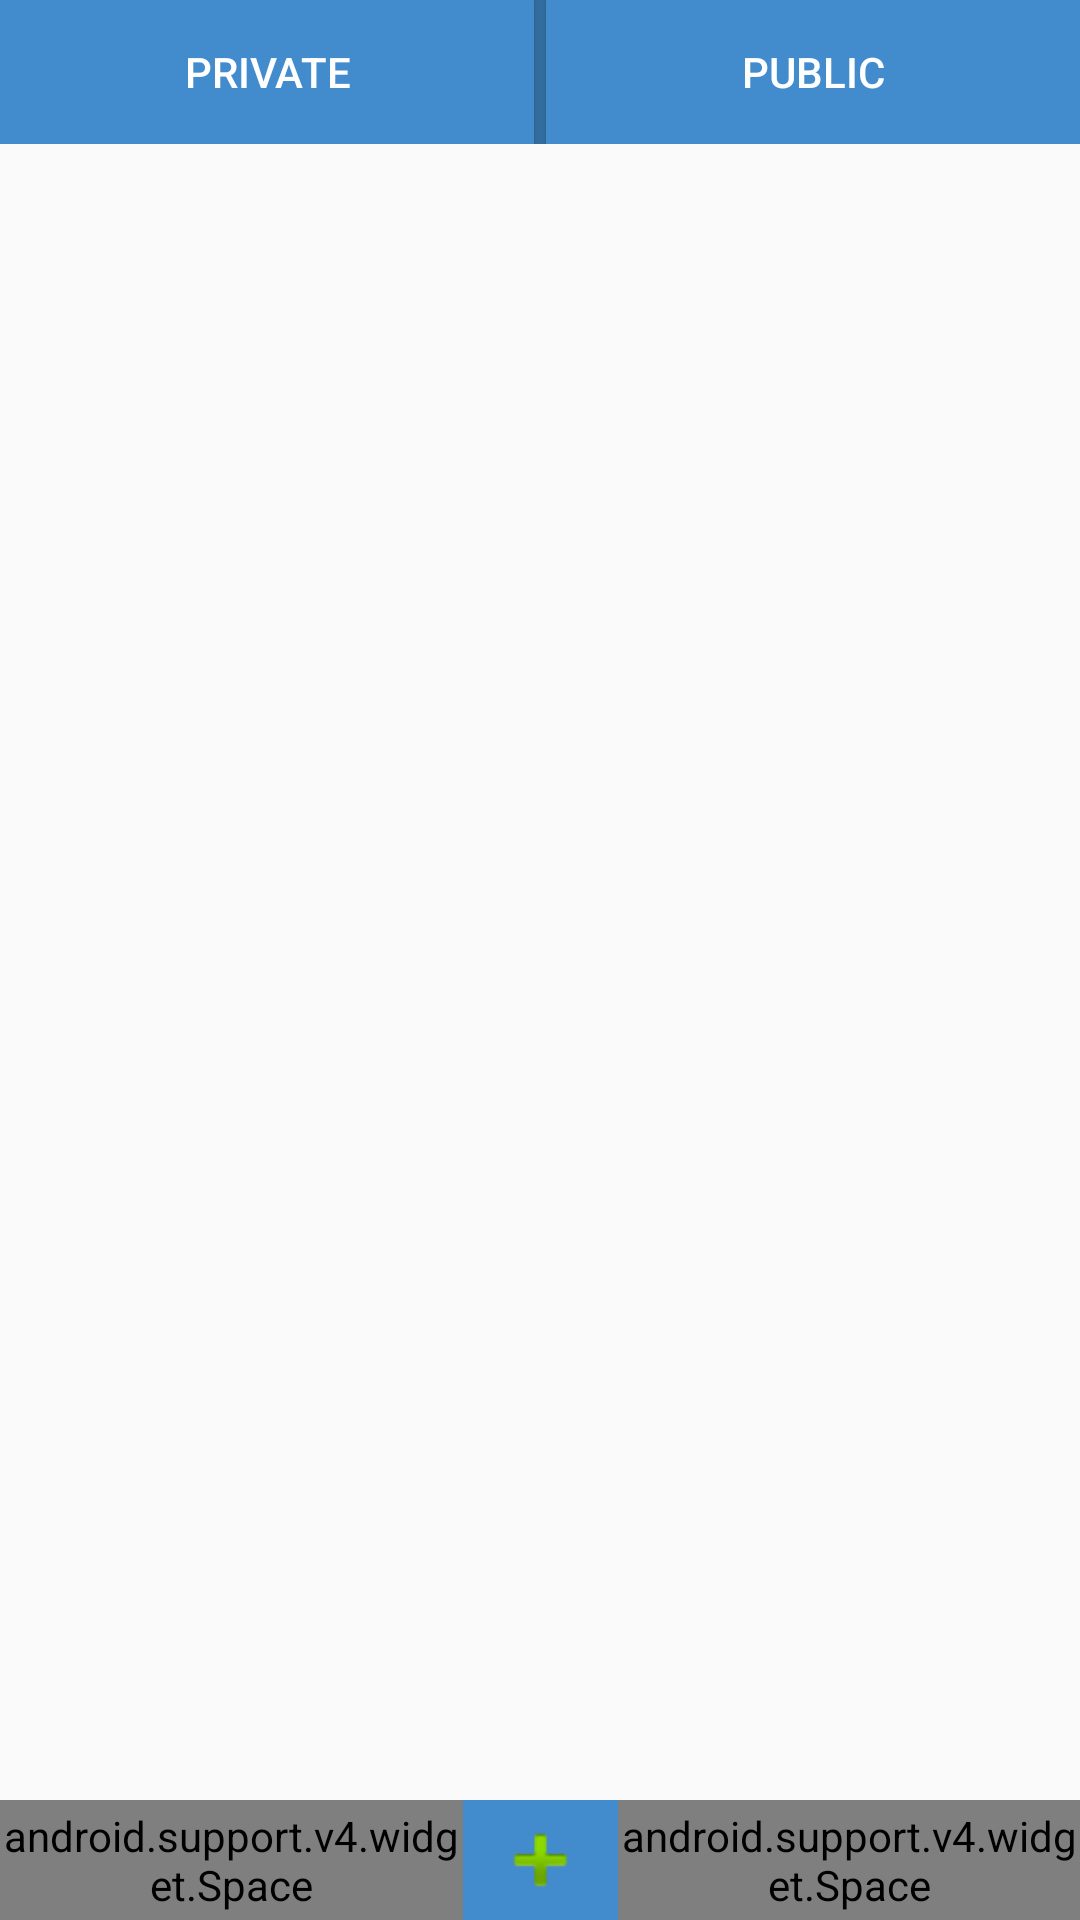

Point at icon controls on the screen. Image size 1080*1920, points as (x=x, y=y).
add: (x=540, y=1860)
